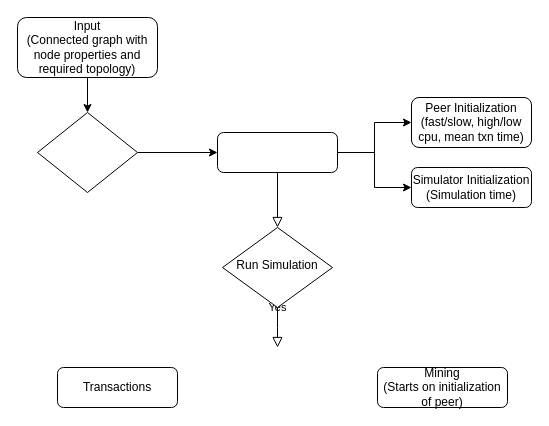
This 549x426 diagram has some shape labels left out. The shapes that lost their labels are listed below. From the top down, each one's centre as x and y in pixels, then its label:
At point 87,152: "Main".
At point 277,152: "Initialization (peer and simulator)".
